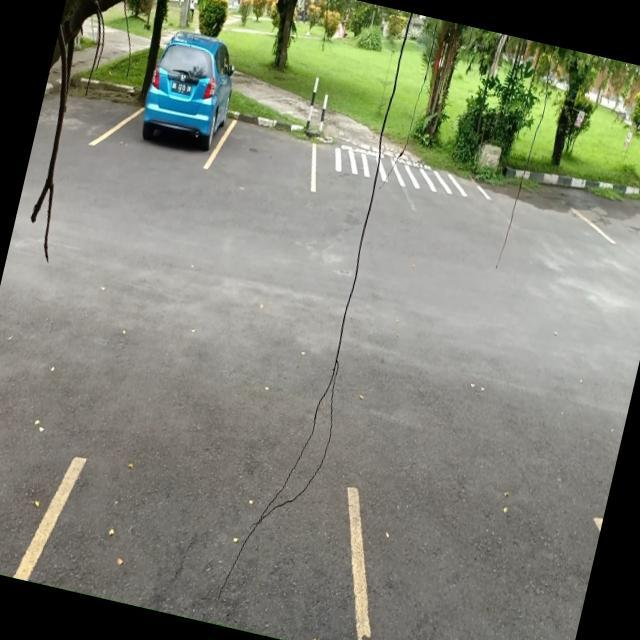empty: (208, 91, 328, 198)
occupied: (119, 65, 234, 174)
